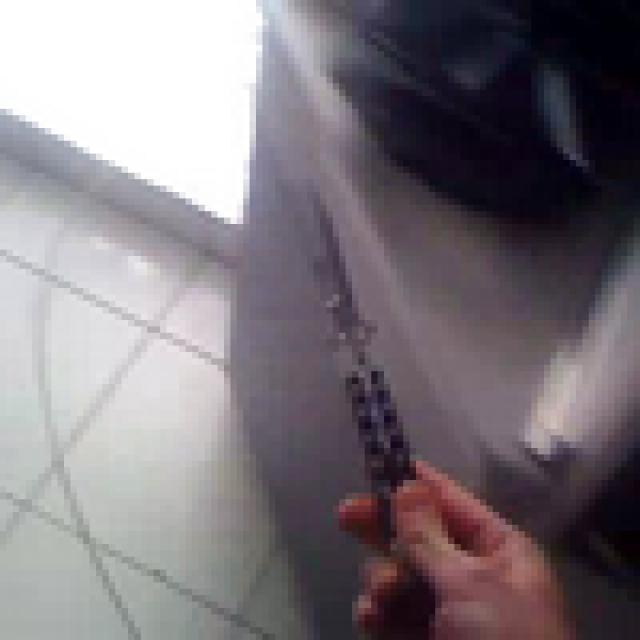knife: (211, 109, 480, 596)
